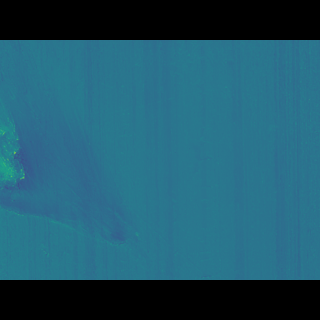Loch: (0, 121, 52, 184)
